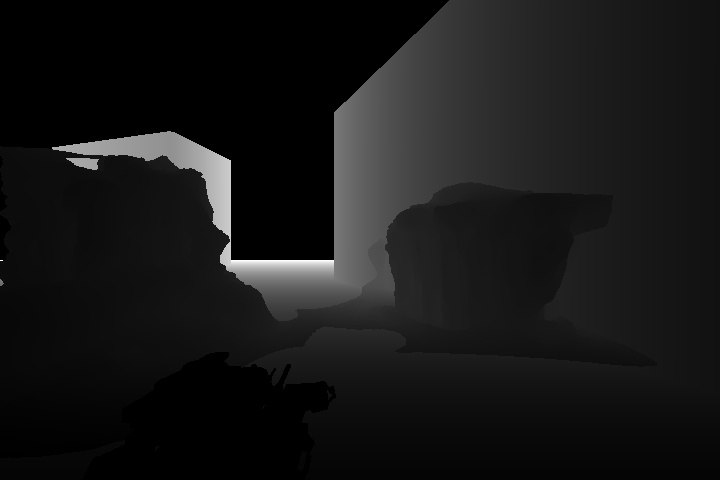green rock: (1, 144, 302, 355), (362, 179, 677, 366)
